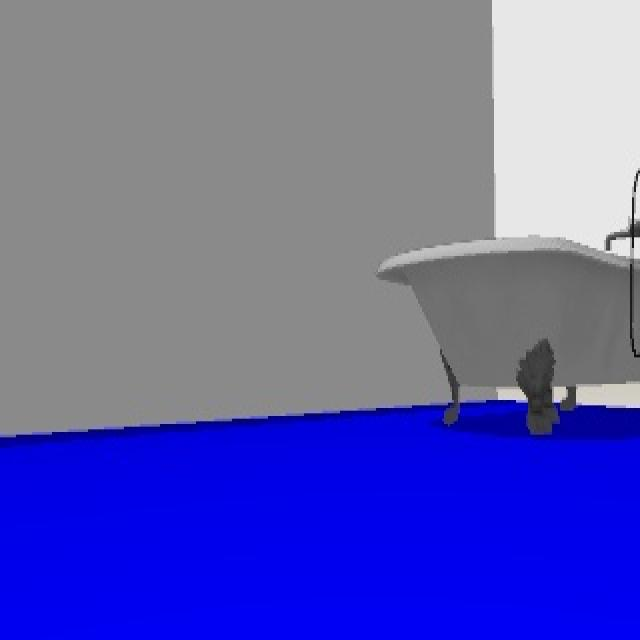bathtub: (378, 168, 640, 434)
